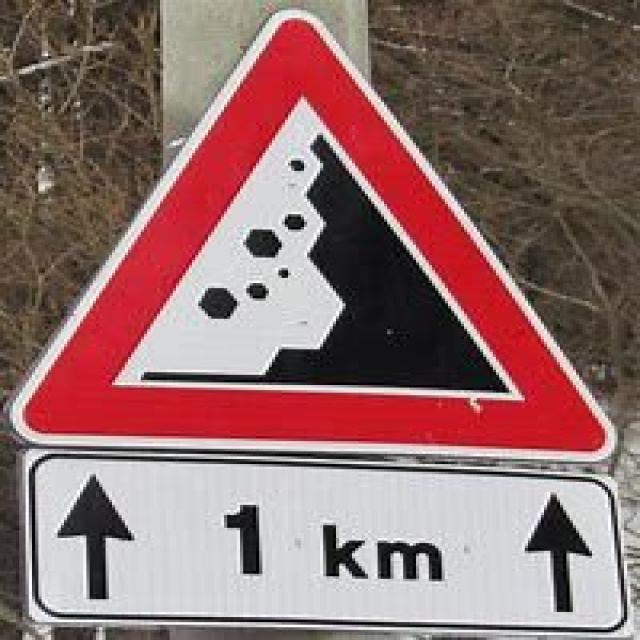falling rocks: (33, 21, 620, 463)
